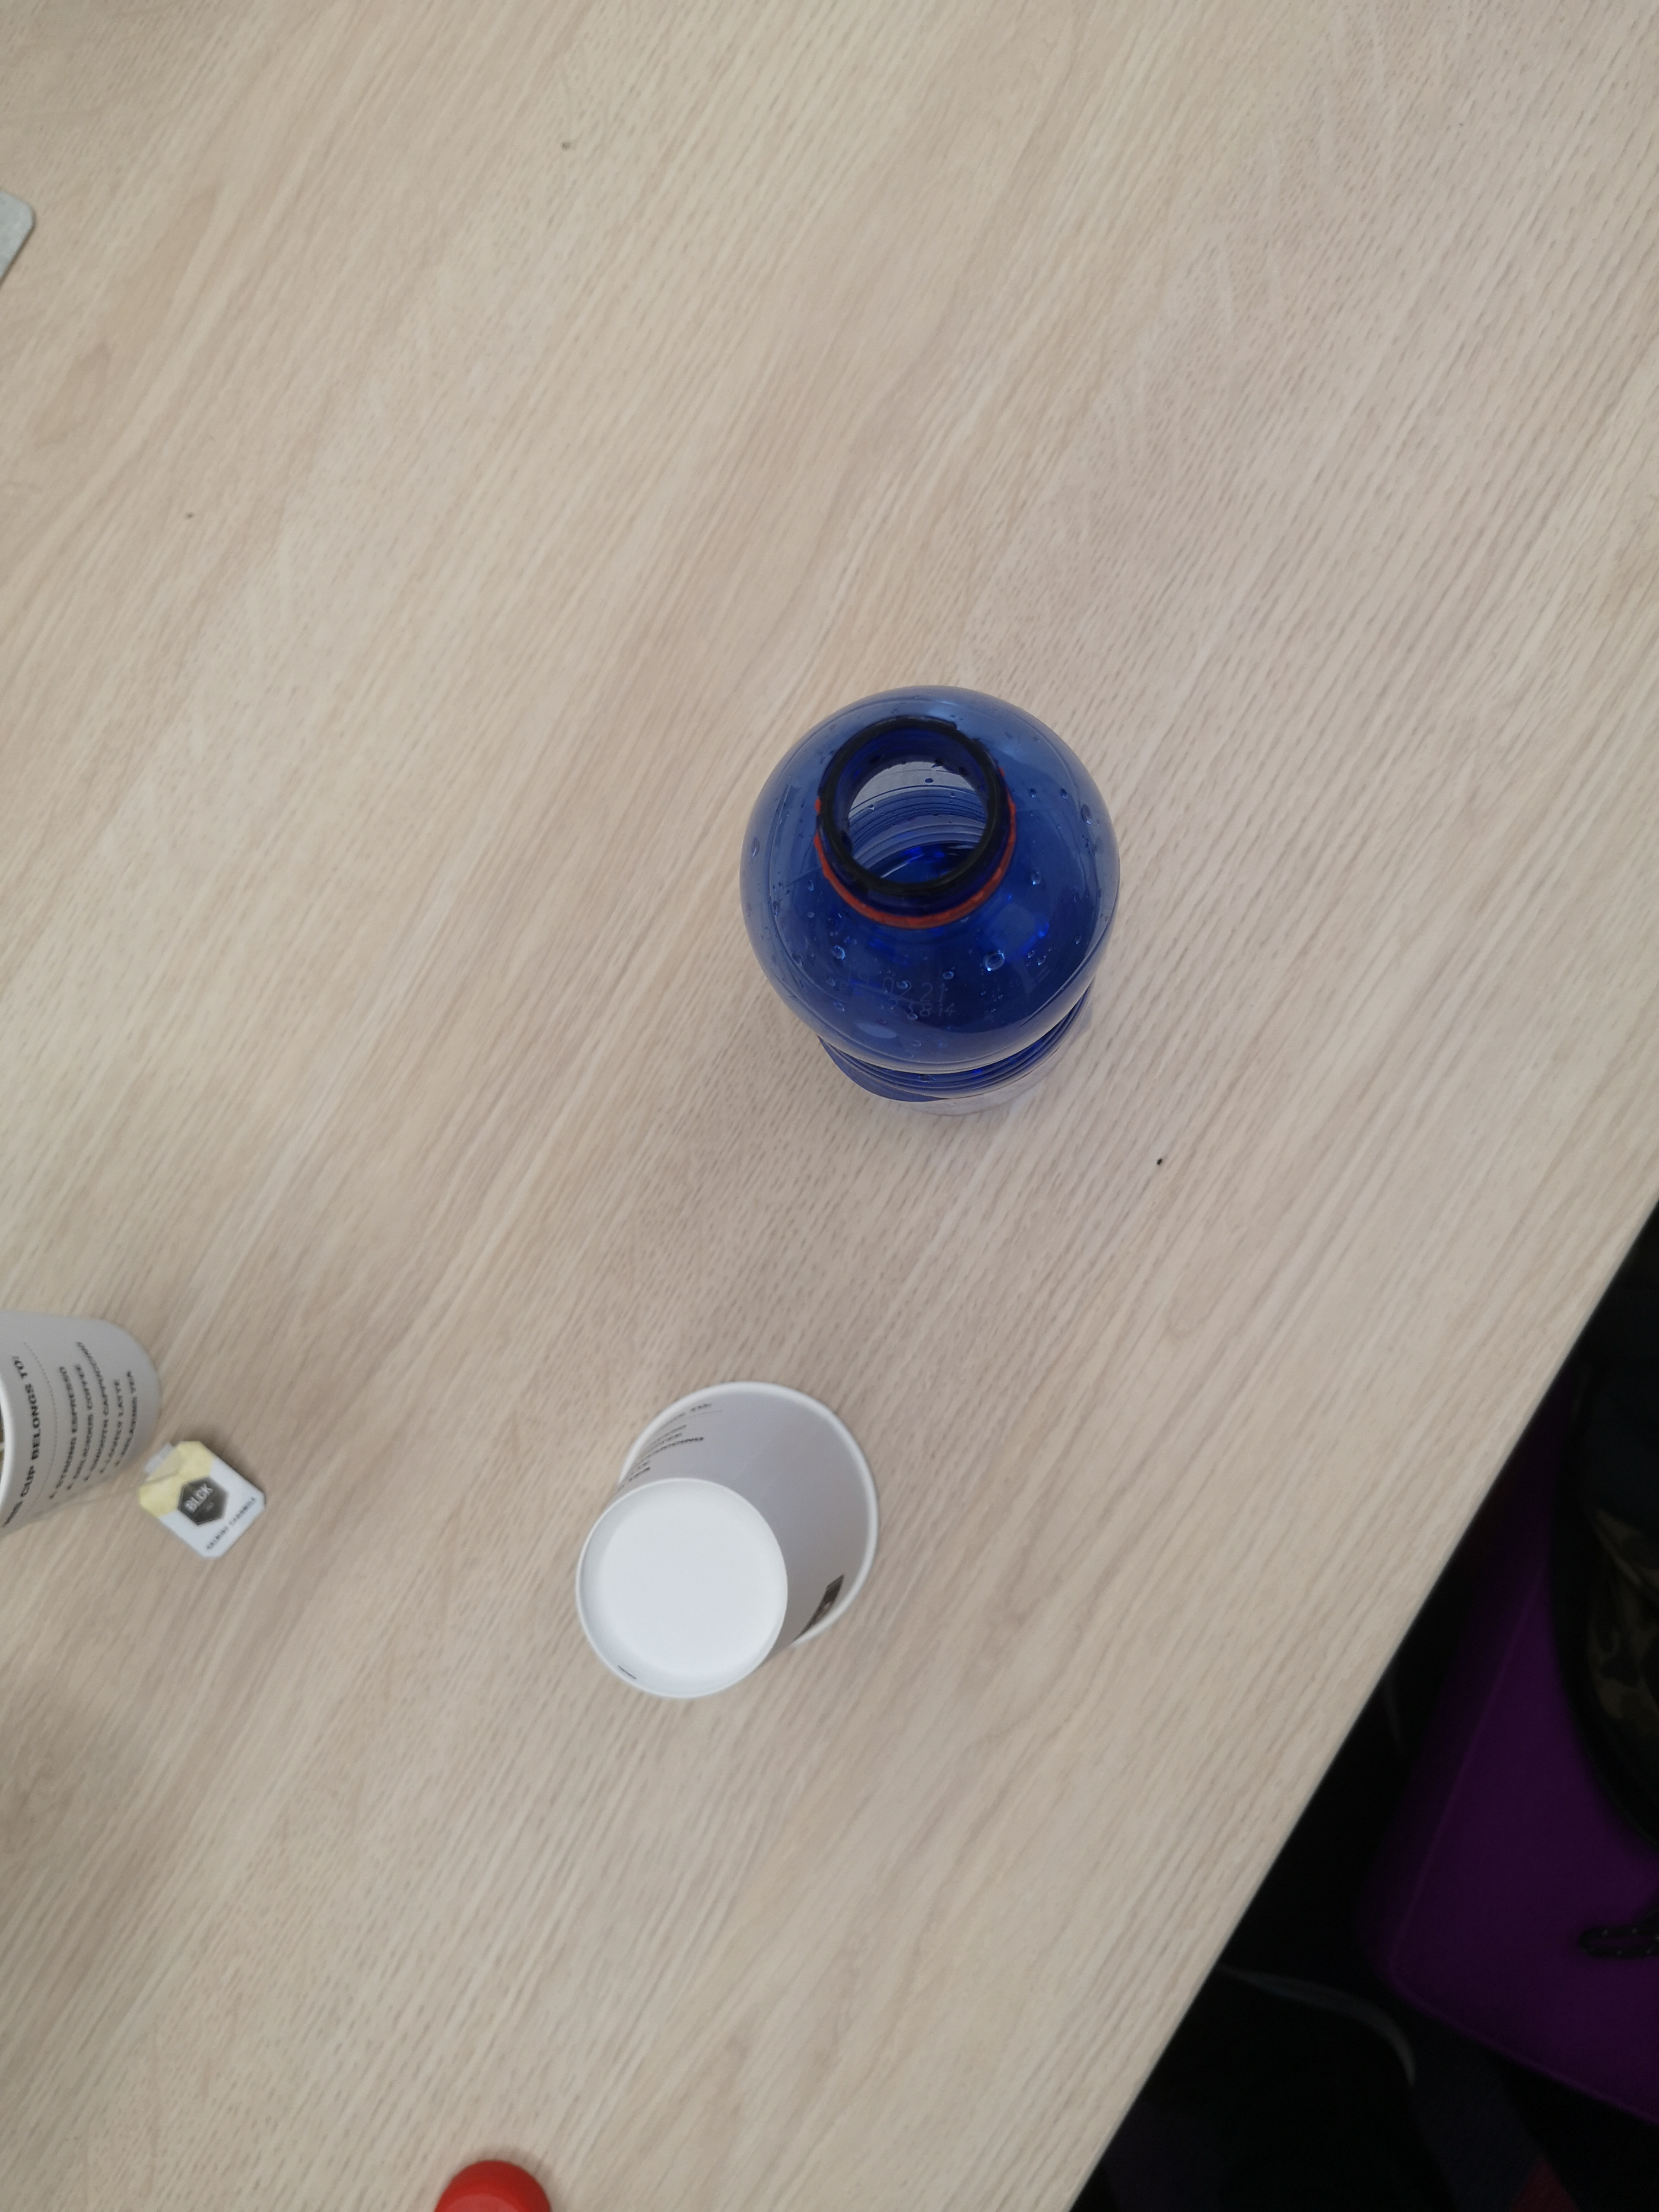cup: (552, 1345, 946, 1717)
plastic_bottle: (709, 643, 1166, 1129)
